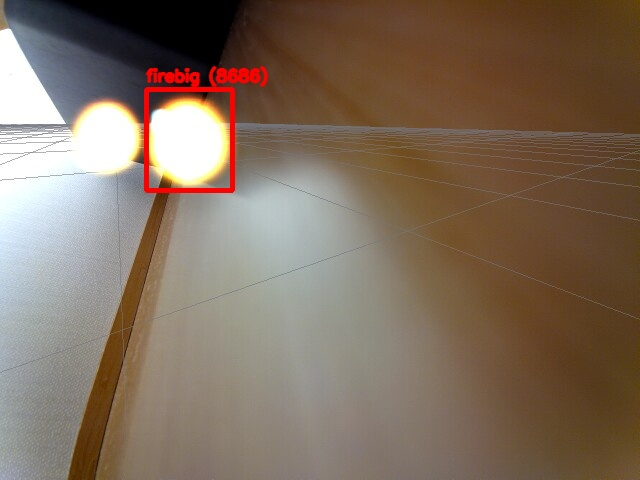firebig: (146, 89, 232, 190)
